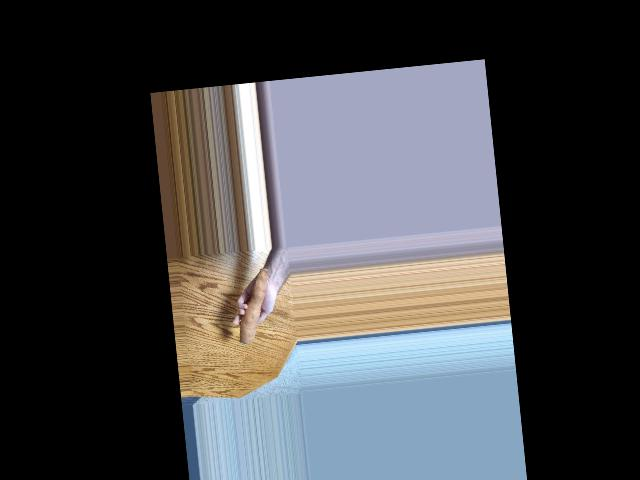sweet_potato: (231, 265, 277, 345)
